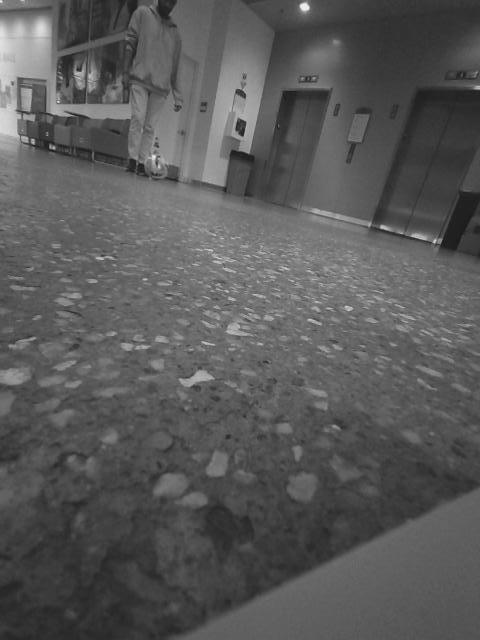ball: (142, 152, 172, 183)
